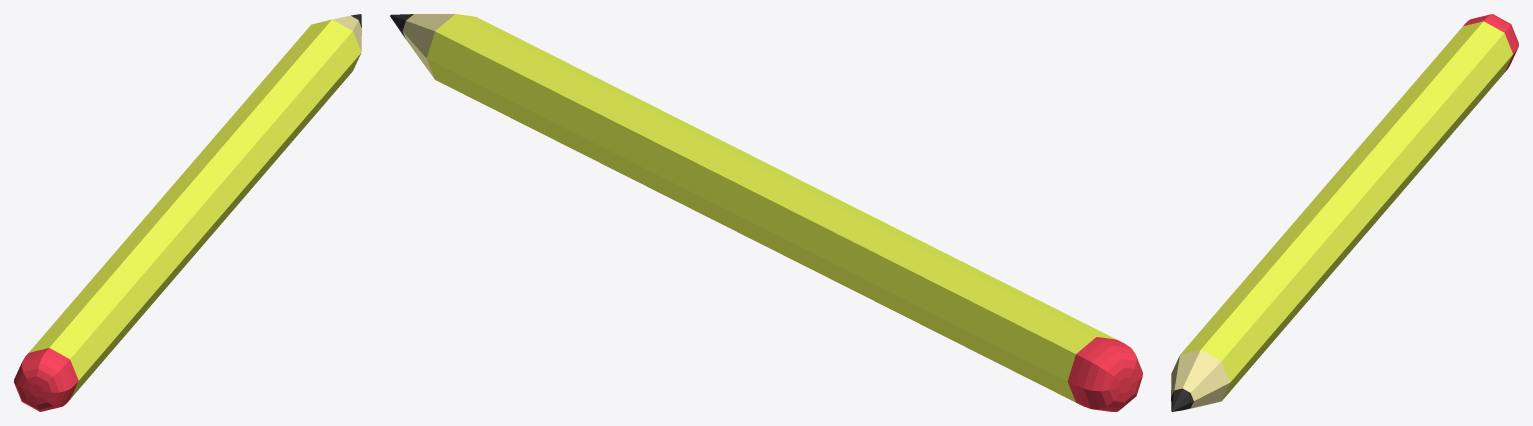
The model's file is f474a218-ff8e-4384-b6f3-693badd737ee.glb.
3 views of the same model, side by side, from view 1: azimuth 90°, elevation 25°; view 2: azimuth 150°, elevation 25°; view 3: azimuth 270°, elevation 25° (orthographic). The views are drawn at different scales.
Visible parts, largest first — view 1: Cylinder002; view 2: Cylinder002; view 3: Cylinder002.
Part boxes in pixels (box(x1,y1,x2,y2)): Cylinder002: box(14, 14, 361, 411); Cylinder002: box(390, 14, 1142, 411); Cylinder002: box(1171, 14, 1518, 411).
Bounding box in the file's own units: 746127 × 52347 × 290074.
